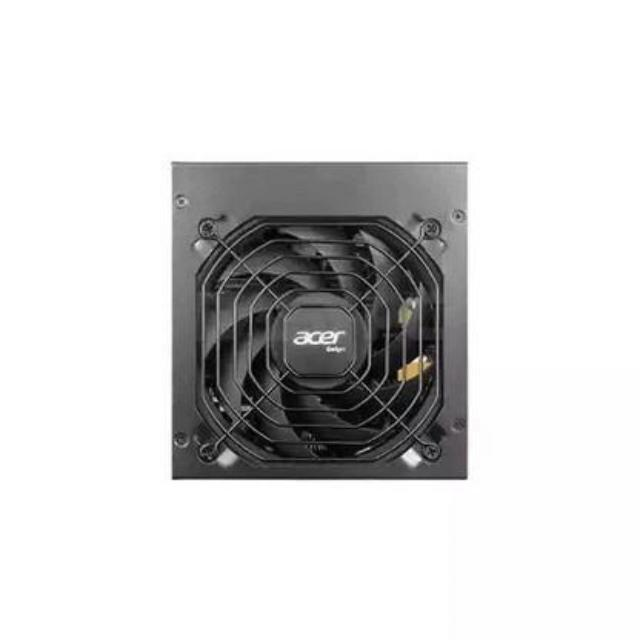PSU: (163, 152, 472, 490)
